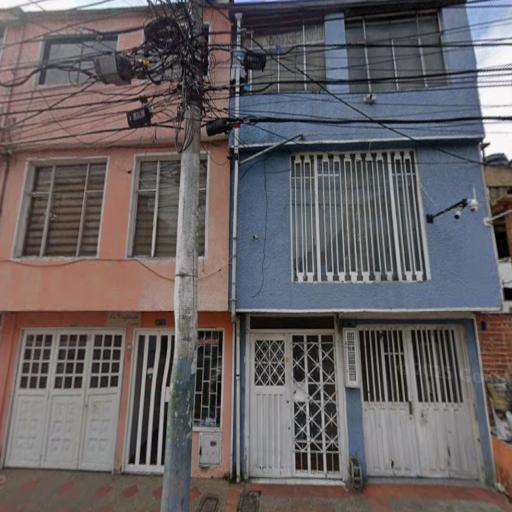Casa: (231, 0, 507, 491), (0, 0, 236, 485)
postes: (140, 0, 209, 511)
